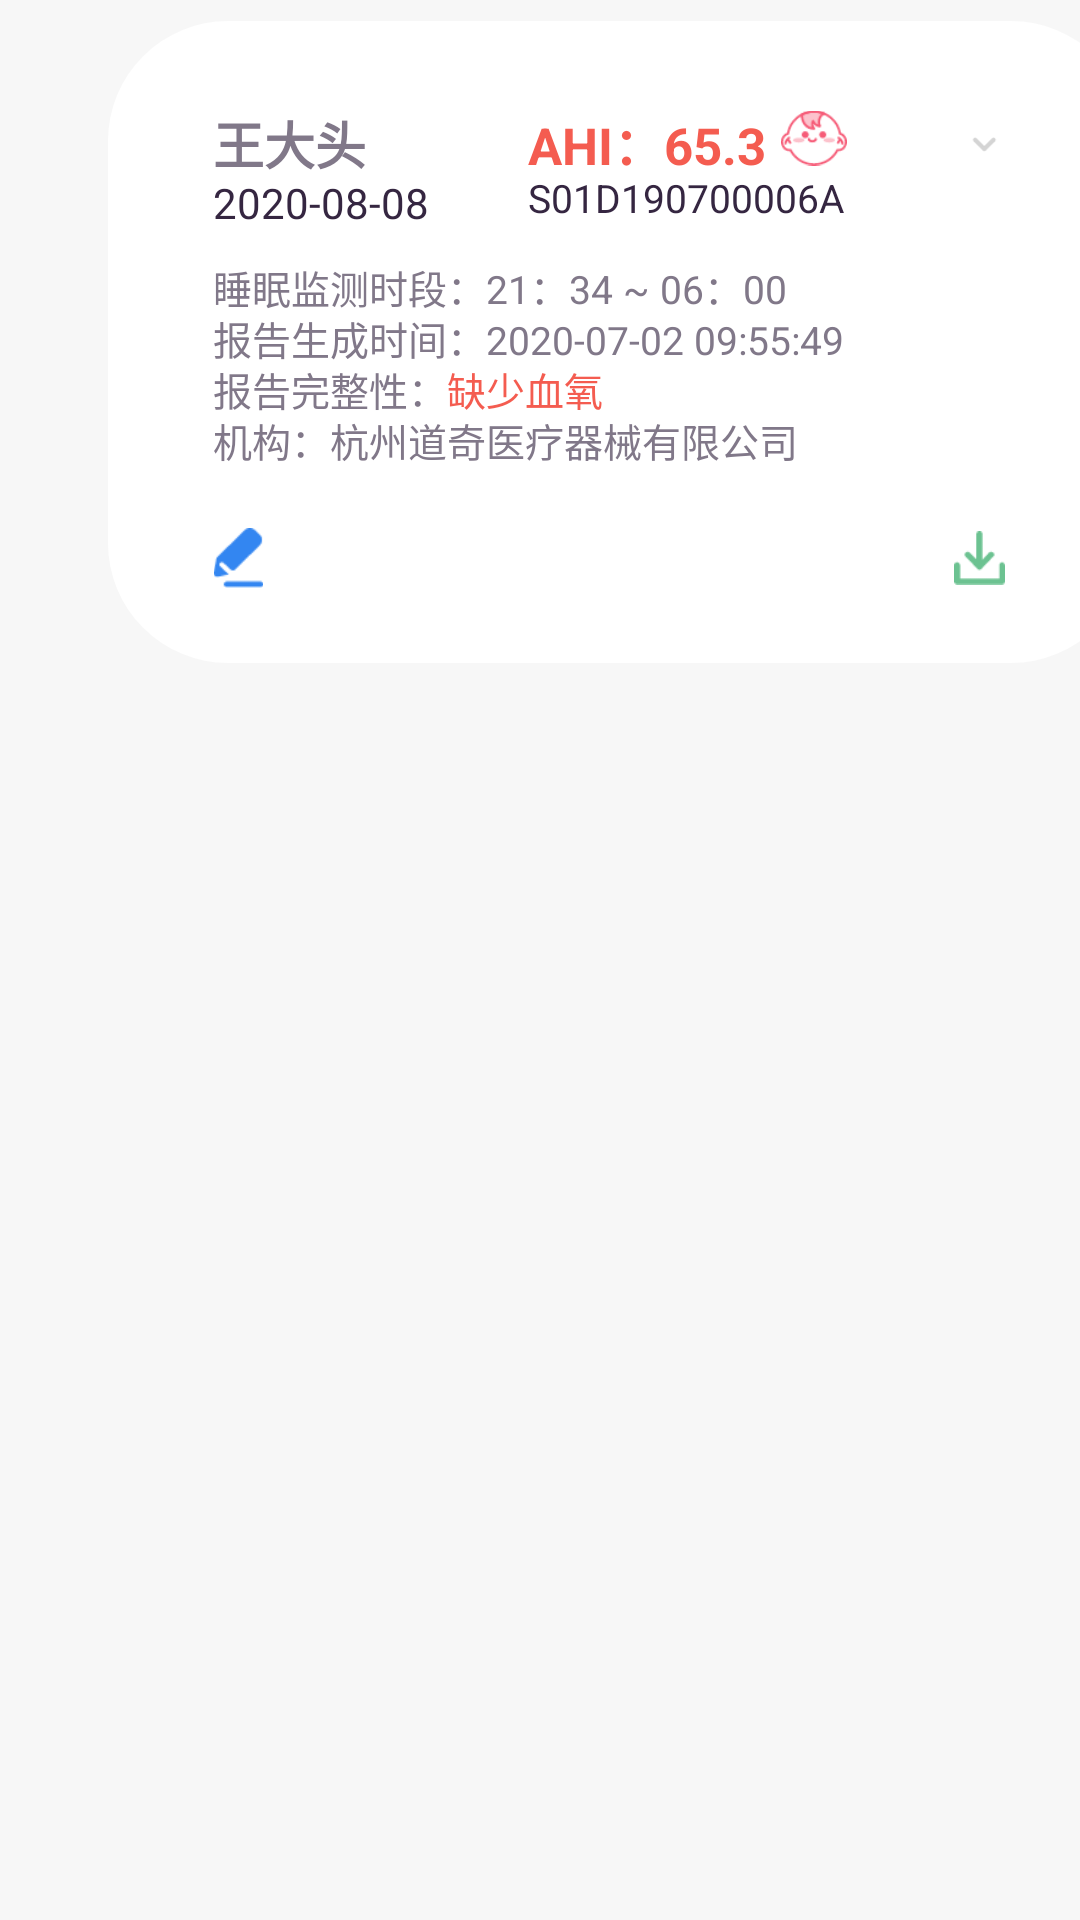

Named icons in this screenshot (1080x1920) and their bounding boxes, (x1,y1,x2,y2):
children: (781,111,847,166)
report edit: (214,528,263,588)
report item download: (954,531,1005,585)
